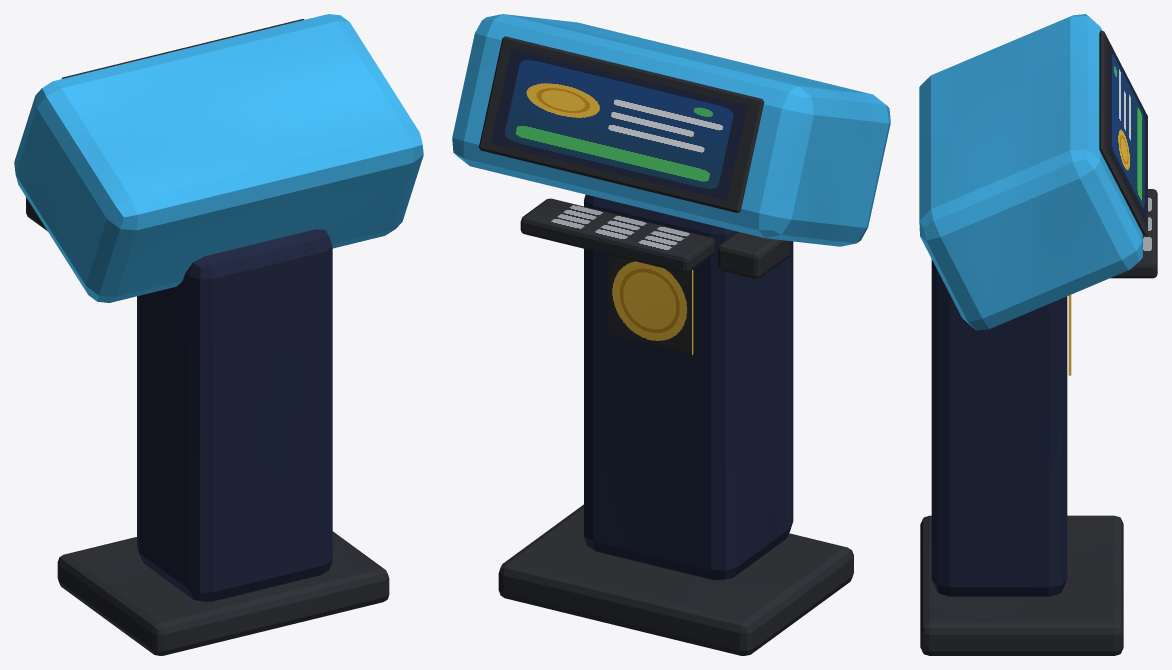
Rendered from Terminal.glb.
The picture shows the model from 3 angles, left to right: view 1: azimuth 30°, elevation 25°; view 2: azimuth 150°, elevation 25°; view 3: azimuth 270°, elevation 25°; orthographic projection. The views are drawn at different scales.
Parts seen in each view (by area): view 1: Kiosk; view 2: Kiosk; view 3: Kiosk.
Boxes of the visible parts, bbox=[...] form: Kiosk: bbox=[14, 14, 423, 655]; Kiosk: bbox=[452, 14, 890, 655]; Kiosk: bbox=[919, 14, 1157, 655].
Bounding box in the file's own units: 0.8 × 1.27 × 0.5275.
1 material, 1 textured.
